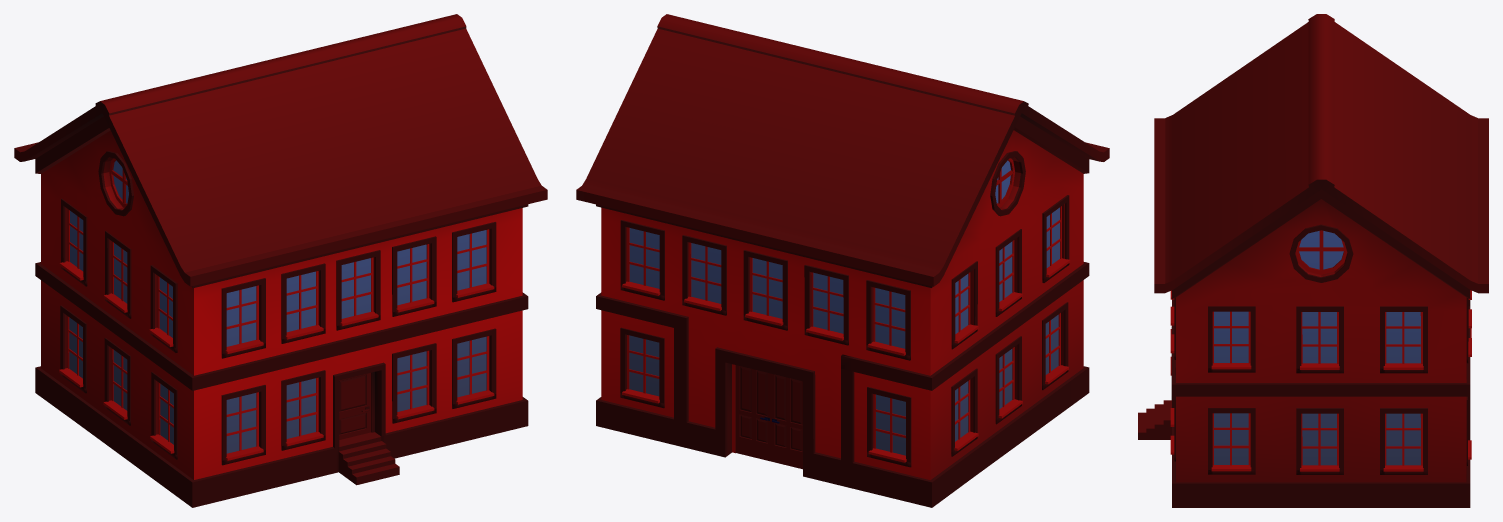
The model's file is buildings-residential-townhouse_v1.fbx.
3 renders of one model, left to right at view 1: azimuth 30°, elevation 25°; view 2: azimuth 150°, elevation 25°; view 3: azimuth 270°, elevation 25°, orthographic. The views are drawn at different scales.
Parts seen in each view (by area): view 1: Townhouse_base, Townhouse_windowRefl; view 2: Townhouse_base, Townhouse_windowRefl; view 3: Townhouse_base, Townhouse_windowRefl.
Part boxes in pixels (x1=…): Townhouse_base: x1=14, y1=14, x2=547, y2=507; Townhouse_windowRefl: x1=69, y1=160, x2=486, y2=453; Townhouse_base: x1=576, y1=14, x2=1109, y2=507; Townhouse_windowRefl: x1=629, y1=160, x2=1059, y2=455; Townhouse_base: x1=1138, y1=14, x2=1488, y2=507; Townhouse_windowRefl: x1=1214, y1=231, x2=1420, y2=465.
Size of the model in its own units: 14.6 by 13.67 by 13.06.
